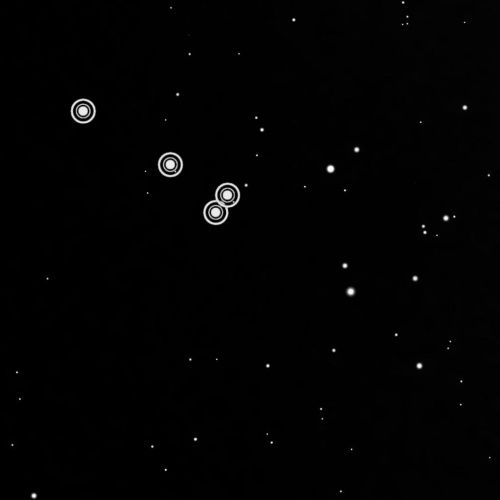sagitta: (62, 90, 244, 231)
